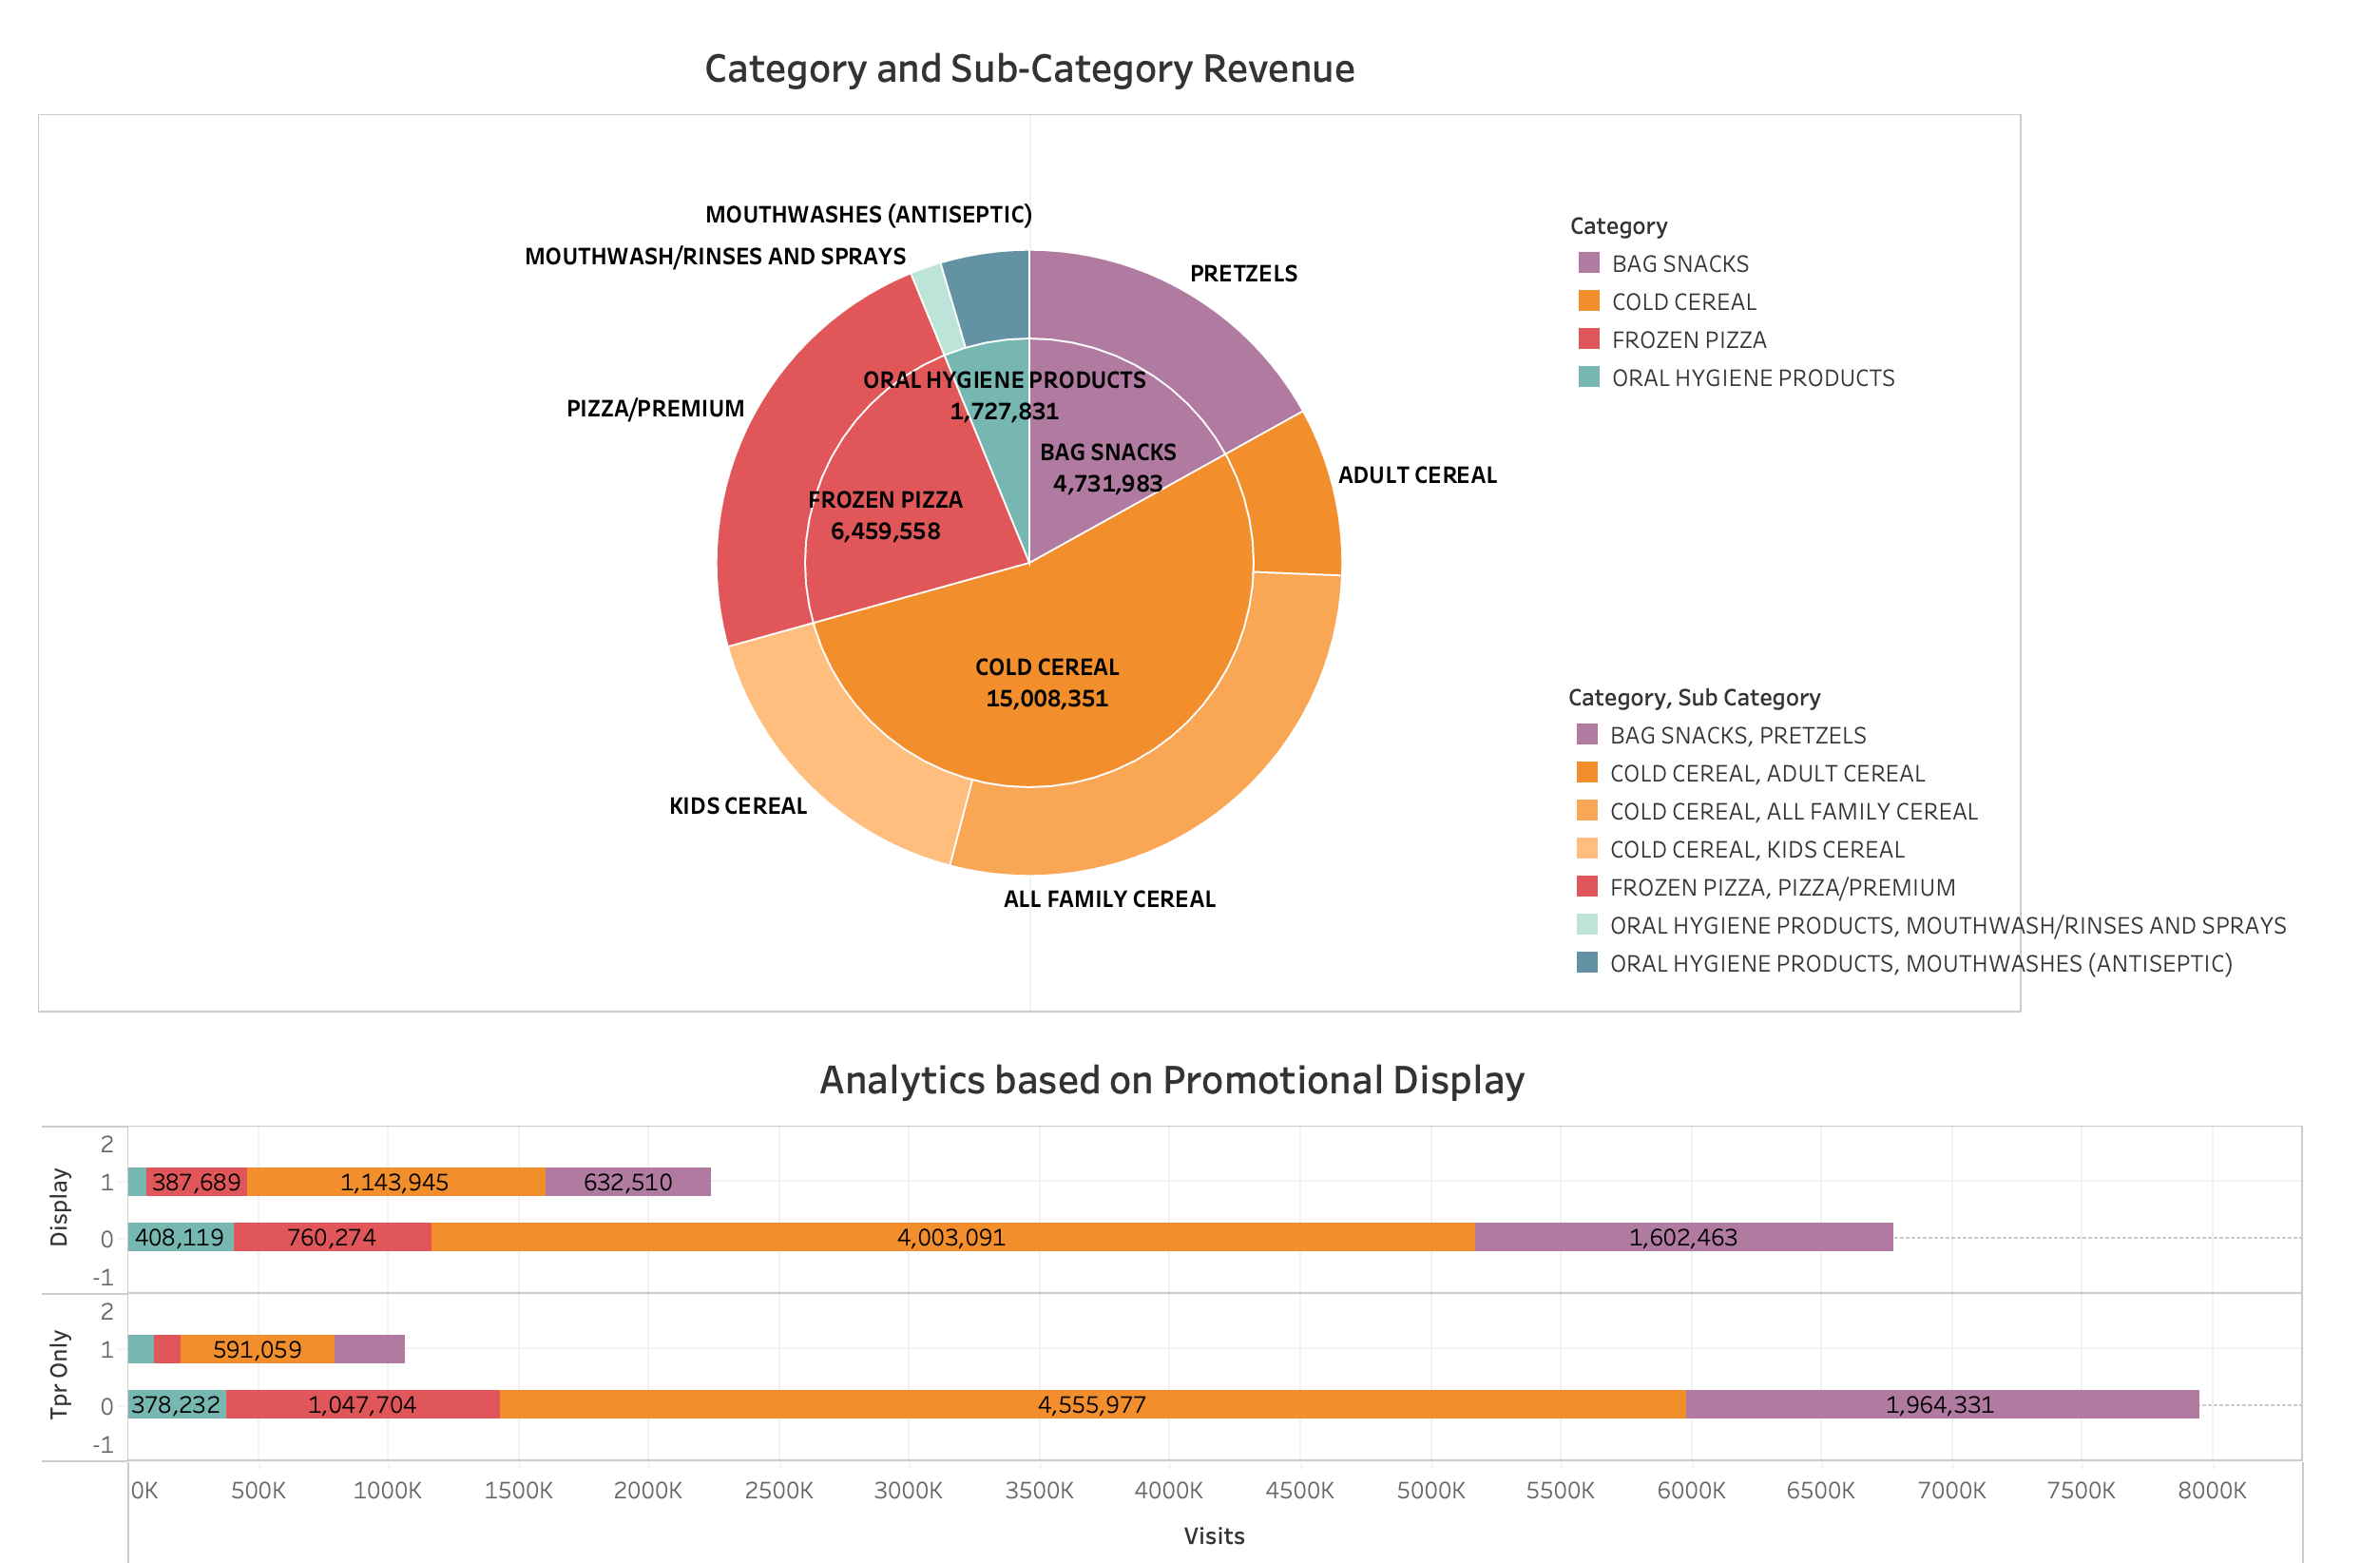

What the dashboard file says about the page in this screenshot:
{"tool":"tableau","page":{"name":"Dashboard 3","canvas":[1000,1000],"units":"permille","ordinal":2},"visuals":[{"type":"worksheet","title":"Category and Sub-Category Revenue","mark":"Pie","cols":["Calculation_711005817582329860","Calculation_711005817582149634"],"box":[19,22.5,829,623.8]},{"type":"legend","title":"Category and Sub-Category Revenue","param":"[federated.0b9tcao10p7oo3181pcsg1bhddsc].[none:CATEGORY:nk]","box":[659.2,135.3,176.3,122]},{"type":"worksheet","title":"Analytics based on Promotional Display","mark":"Bar","rows":["DISPLAY","TPR_ONLY"],"cols":["VISITS"],"box":[21,665,945,332.5]}]}

Visuals, with their boxes on the dashboard's canvas, which has no fixed pixel size, in thousandths of its width and height (x1, y1, x2, y2). These are canvas units, not pixel positions in the 2380x1563 screenshot, which may show the page scaled, cropped or inside an application window:
"Category and Sub-Category Revenue" worksheet (Pie marks): x1=19 y1=22 x2=848 y2=646
"Category and Sub-Category Revenue" legend: x1=659 y1=135 x2=836 y2=257
"Analytics based on Promotional Display" worksheet (Bar marks): x1=21 y1=665 x2=966 y2=998
